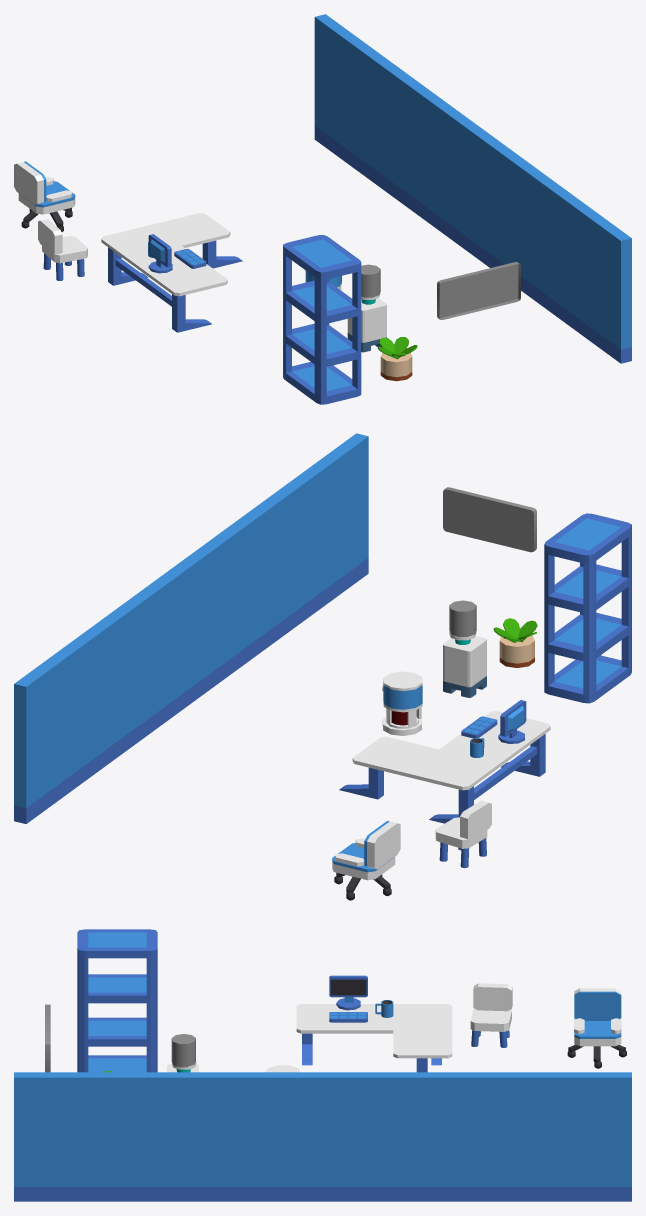
The model's file is Office.FBX.
3 views of the same model, one above another, from view 1: azimuth 30°, elevation 25°; view 2: azimuth 150°, elevation 25°; view 3: azimuth 270°, elevation 25° (orthographic). The views are drawn at different scales.
Visible parts, largest first — view 1: Wall, Rack, Table, Box013, PC Chair, Chair, Water, Flower, PC, Object013; view 2: Wall, Rack, Table, Box013, PC Chair, Water, Coffee machine, Chair, Flower, PC, Object013; view 3: Wall, Rack, Table, PC Chair, Chair, PC, Object013, Box013.
Boxes of the visible parts, x1=… form: Wall: x1=314, y1=14, x2=631, y2=363; Rack: x1=283, y1=235, x2=361, y2=404; Table: x1=101, y1=213, x2=242, y2=332; Box013: x1=437, y1=262, x2=520, y2=319; PC Chair: x1=14, y1=161, x2=75, y2=231; Chair: x1=38, y1=219, x2=87, y2=280; Water: x1=347, y1=293, x2=386, y2=352; Flower: x1=378, y1=337, x2=417, y2=381; PC: x1=148, y1=234, x2=206, y2=273; Object013: x1=361, y1=264, x2=380, y2=297; Wall: x1=14, y1=433, x2=368, y2=823; Rack: x1=544, y1=513, x2=631, y2=703; Table: x1=339, y1=711, x2=550, y2=823; Box013: x1=443, y1=487, x2=536, y2=552; PC Chair: x1=332, y1=821, x2=400, y2=900; Water: x1=443, y1=631, x2=486, y2=697; Coffee machine: x1=382, y1=671, x2=422, y2=735; Chair: x1=435, y1=800, x2=491, y2=868; Flower: x1=493, y1=618, x2=537, y2=667; PC: x1=461, y1=700, x2=526, y2=743; Object013: x1=449, y1=600, x2=476, y2=636; Wall: x1=14, y1=1072, x2=631, y2=1201; Rack: x1=77, y1=929, x2=157, y2=1072; Table: x1=296, y1=1004, x2=452, y2=1072; PC Chair: x1=567, y1=988, x2=626, y2=1068; Chair: x1=470, y1=983, x2=512, y2=1047; PC: x1=329, y1=975, x2=367, y2=1022; Object013: x1=171, y1=1034, x2=195, y2=1067; Box013: x1=45, y1=1004, x2=50, y2=1072.
Size of the model in its own units: 9.4 by 3.5 by 14.28.
